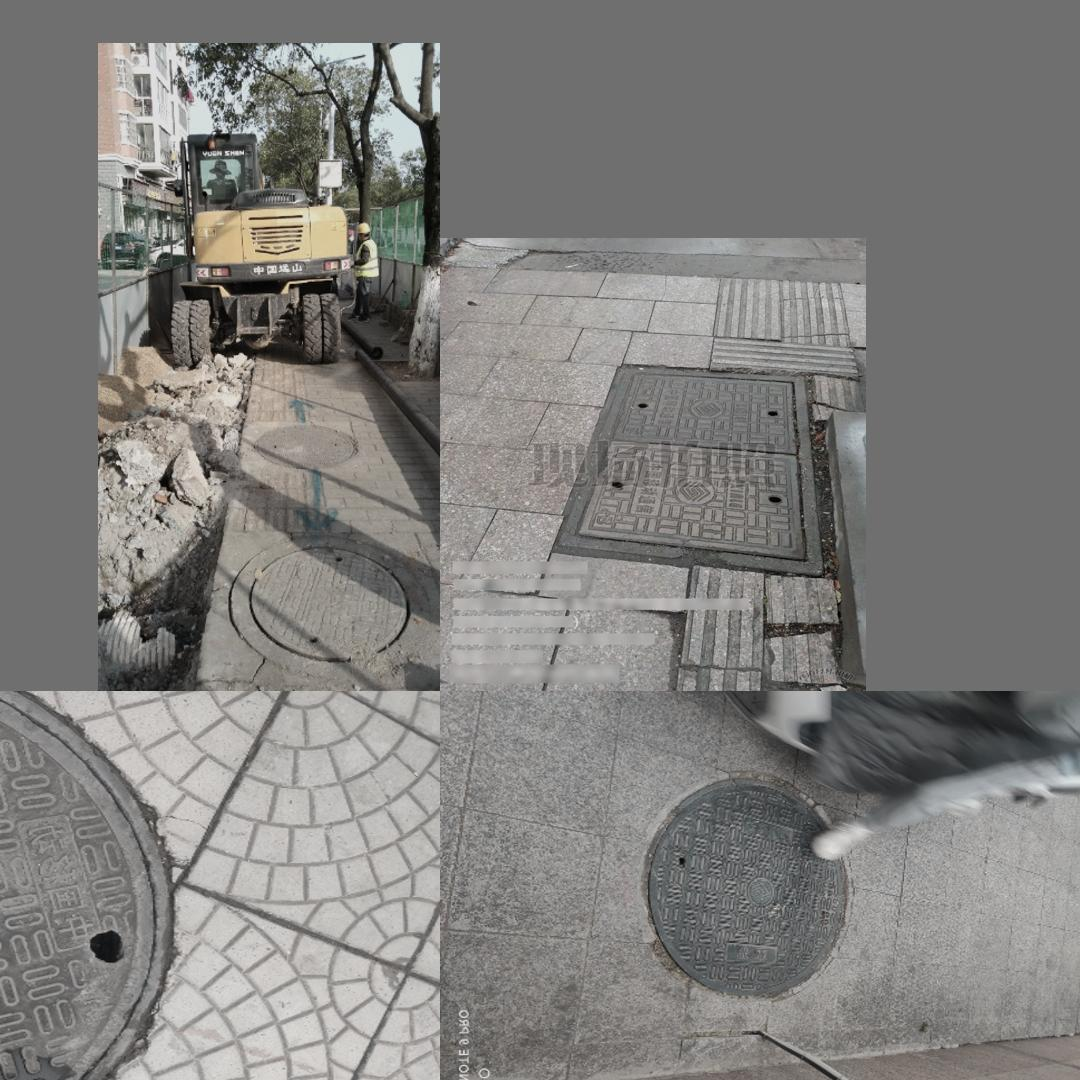good: (0, 692, 173, 1080), (557, 364, 824, 577), (649, 775, 850, 996), (230, 535, 431, 679), (257, 422, 360, 470)
